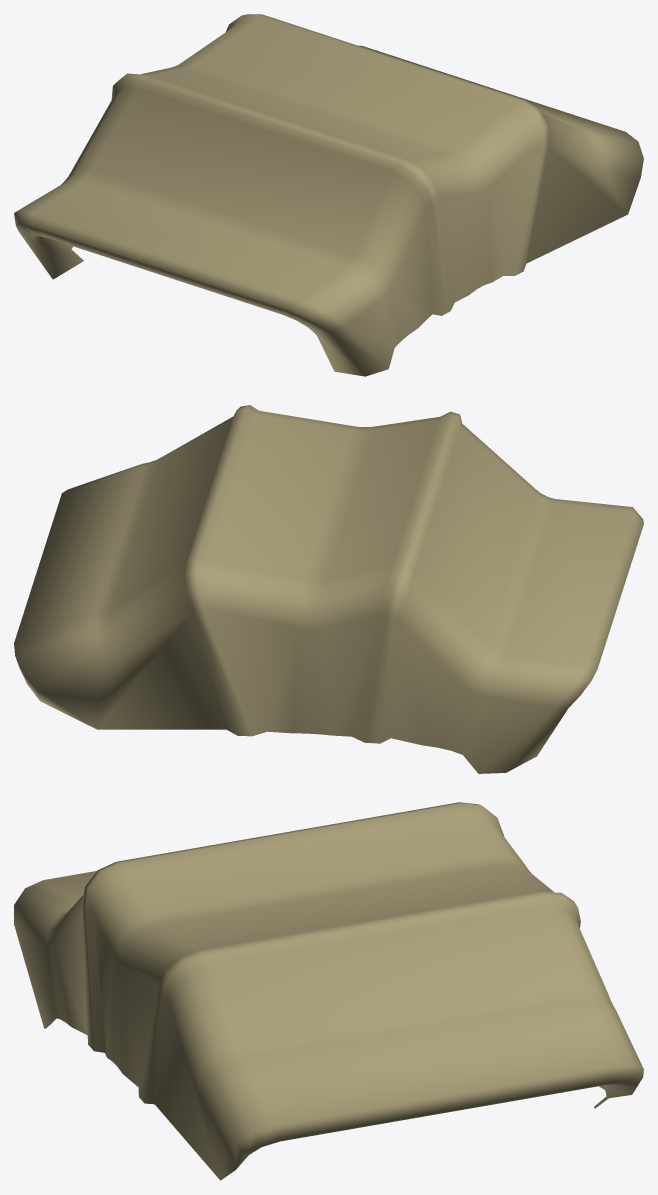
File: quizRickshawRoof.fbx
The picture shows the model from 3 angles, top to bottom: view 1: azimuth 30°, elevation 25°; view 2: azimuth 150°, elevation 25°; view 3: azimuth 270°, elevation 25°; orthographic projection. The views are drawn at different scales.
Visible parts, largest first — view 1: roof; view 2: roof; view 3: roof.
Boxes of the visible parts, left/top/right/bottom form: roof: left=14, top=14, right=643, bottom=376; roof: left=14, top=405, right=643, bottom=773; roof: left=14, top=802, right=643, bottom=1180.
Bounding box in the file's own units: 1.55 × 0.467 × 1.37.
